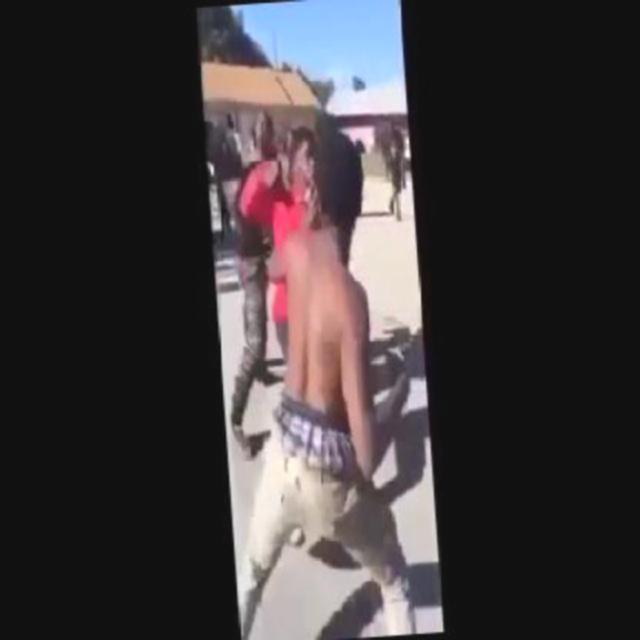fight: (234, 120, 421, 636)
